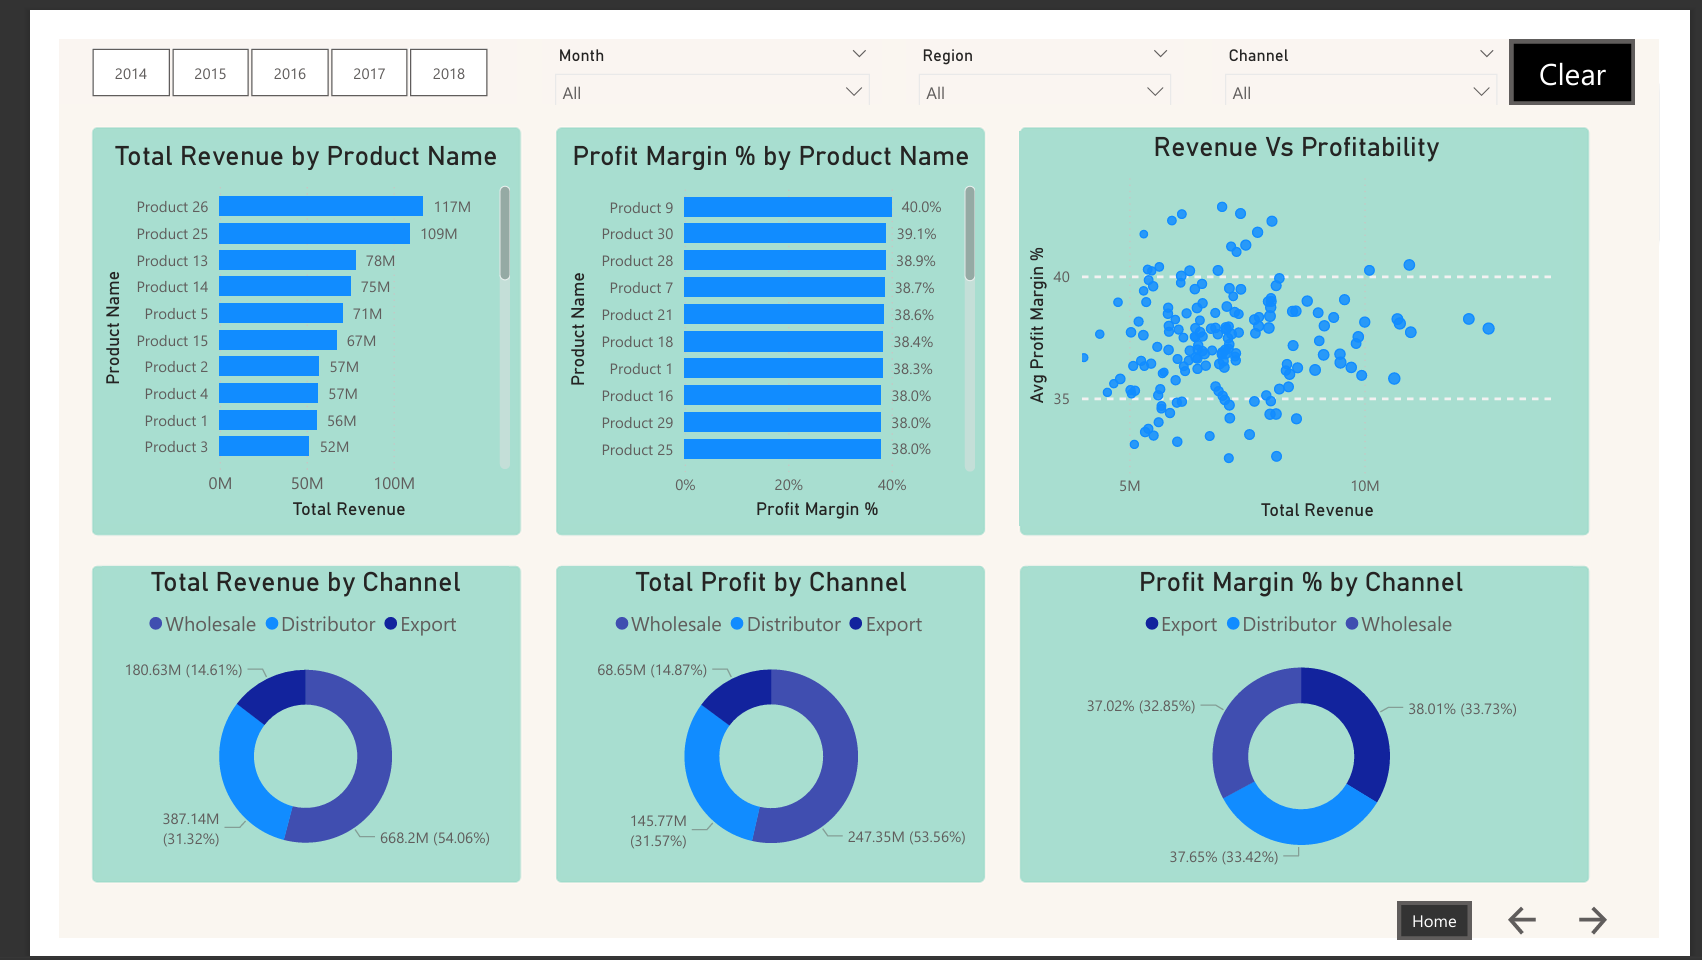

This screenshot's page, from the dashboard's own definition file:
{"tool":"powerbi","page":{"name":"Product & Channel Performance","canvas":[1280,720],"ordinal":2},"visuals":[{"type":"barChart","title":"Total Revenue by Product Name","fields":{"Category":["Sales_data(EDA Exported).product_name"],"Y":["Query1.Total Revenue"]},"box":[28.8,79.6,336.2,308.7],"z":0},{"type":"barChart","title":"Profit Margin % by Product Name","fields":{"Category":["Sales_data(EDA Exported).product_name"],"Y":["Query1.Profit Margin %"]},"box":[400.7,79.6,336.2,308.7],"z":1000},{"type":"donutChart","title":"Total Revenue by Channel","fields":{"Category":["Sales_data(EDA Exported).channel"],"Y":["Query1.Total Revenue"]},"box":[33.9,421.1,325.5,248],"z":2000},{"type":"donutChart","title":"Total Profit by Channel","fields":{"Category":["Sales_data(EDA Exported).channel"],"Y":["Query1.Total Profit"]},"box":[401,421,336,248],"z":3000},{"type":"slicer","fields":{"Values":["Sales_data(EDA Exported).channel"]},"box":[921.5,0,238.8,52],"z":4000},{"type":"donutChart","title":"Profit Margin % by Channel","fields":{"Category":["Sales_data(EDA Exported).channel"],"Y":["Query1.Profit Margin %"]},"box":[775,421,436,248],"z":5000},{"type":"scatterChart","title":"Revenue Vs Profitability","fields":{"X":["Customer Summary.Total Revenue"],"Y":["Customer Summary.Avg Profit Margin %"],"Size":["Sum(Customer Summary.Order Count)"]},"box":[768.4,73.5,442.4,315.3],"z":6000},{"type":"actionButton","title":"Clear","box":[1160.3,0,99.5,52],"z":7000},{"type":"slicer","fields":{"Values":["Sales_data(EDA Exported).Year"]},"box":[0,0,365.9,52],"z":8000},{"type":"slicer","fields":{"Values":["Sales_data(EDA Exported).Order Month Name"]},"box":[385.8,0,272.5,52],"z":9000},{"type":"slicer","fields":{"Values":["Sales_data(EDA Exported).region"]},"box":[676.6,0,222,52],"z":10000},{"type":"actionButton","box":[1070.3,689,59,31],"z":11000},{"type":"actionButton","box":[1155.4,689,50,31],"z":12000},{"type":"actionButton","box":[1210.4,689,49,31],"z":13000}]}

Visuals, with their boxes in screenshot pixels (x1, y1, x2, y2), scaled from the page's 1280x720 canvas onto the 1702x960 screenshot:
"Total Revenue by Product Name" barChart: bbox=[38, 106, 485, 518]
"Profit Margin % by Product Name" barChart: bbox=[533, 106, 980, 518]
"Total Revenue by Channel" donutChart: bbox=[45, 561, 478, 892]
"Total Profit by Channel" donutChart: bbox=[533, 561, 980, 892]
slicer - Sales_data(EDA Exported).channel: bbox=[1225, 0, 1543, 69]
"Profit Margin % by Channel" donutChart: bbox=[1031, 561, 1610, 892]
"Revenue Vs Profitability" scatterChart: bbox=[1022, 98, 1610, 518]
"Clear" actionButton: bbox=[1543, 0, 1675, 69]
slicer - Sales_data(EDA Exported).Year: bbox=[0, 0, 487, 69]
slicer - Sales_data(EDA Exported).Order Month Name: bbox=[513, 0, 875, 69]
slicer - Sales_data(EDA Exported).region: bbox=[900, 0, 1195, 69]
actionButton: bbox=[1423, 919, 1502, 959]
actionButton: bbox=[1536, 919, 1603, 959]
actionButton: bbox=[1609, 919, 1675, 959]
